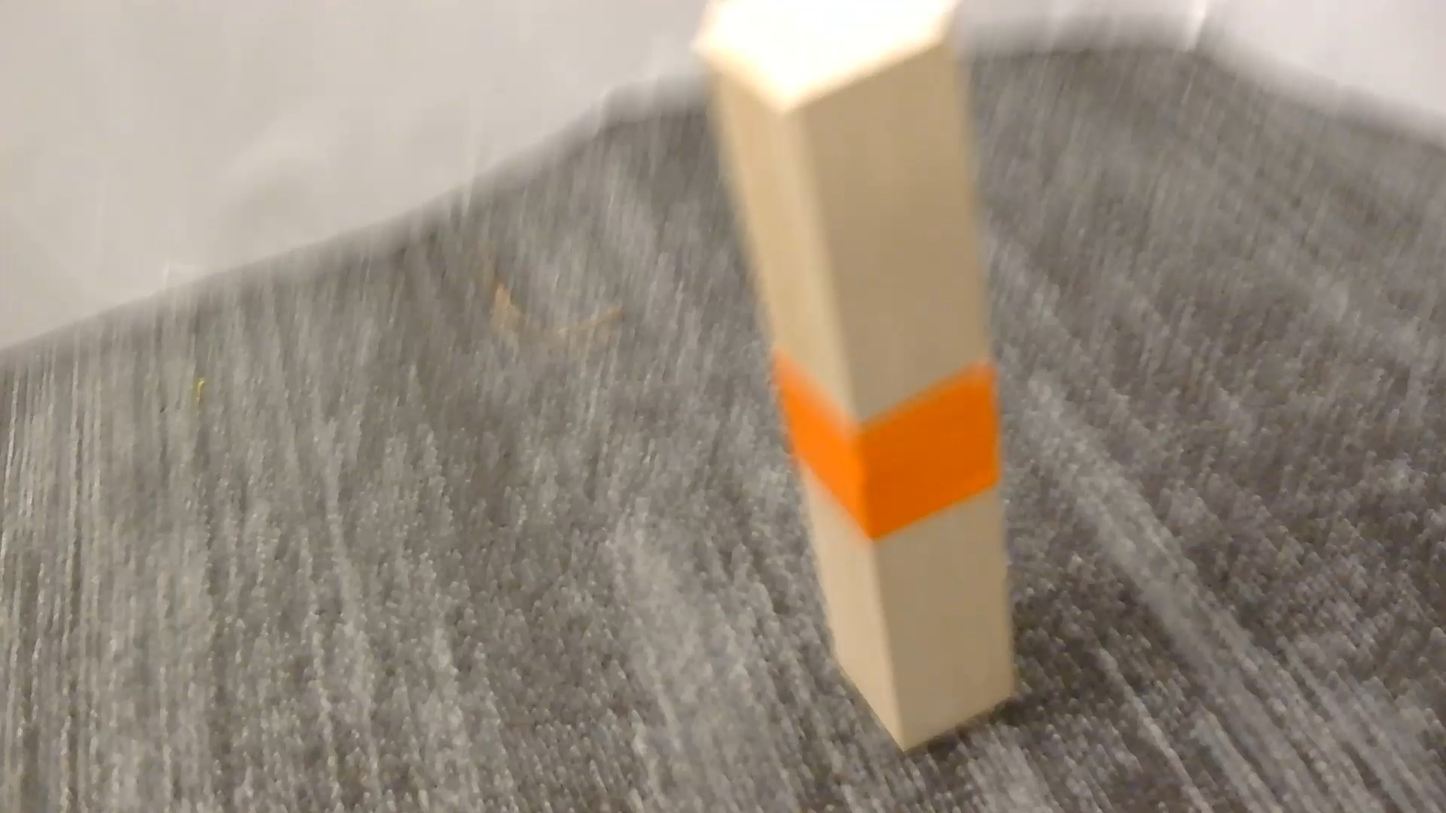Wooden Block: (697, 0, 1014, 746)
